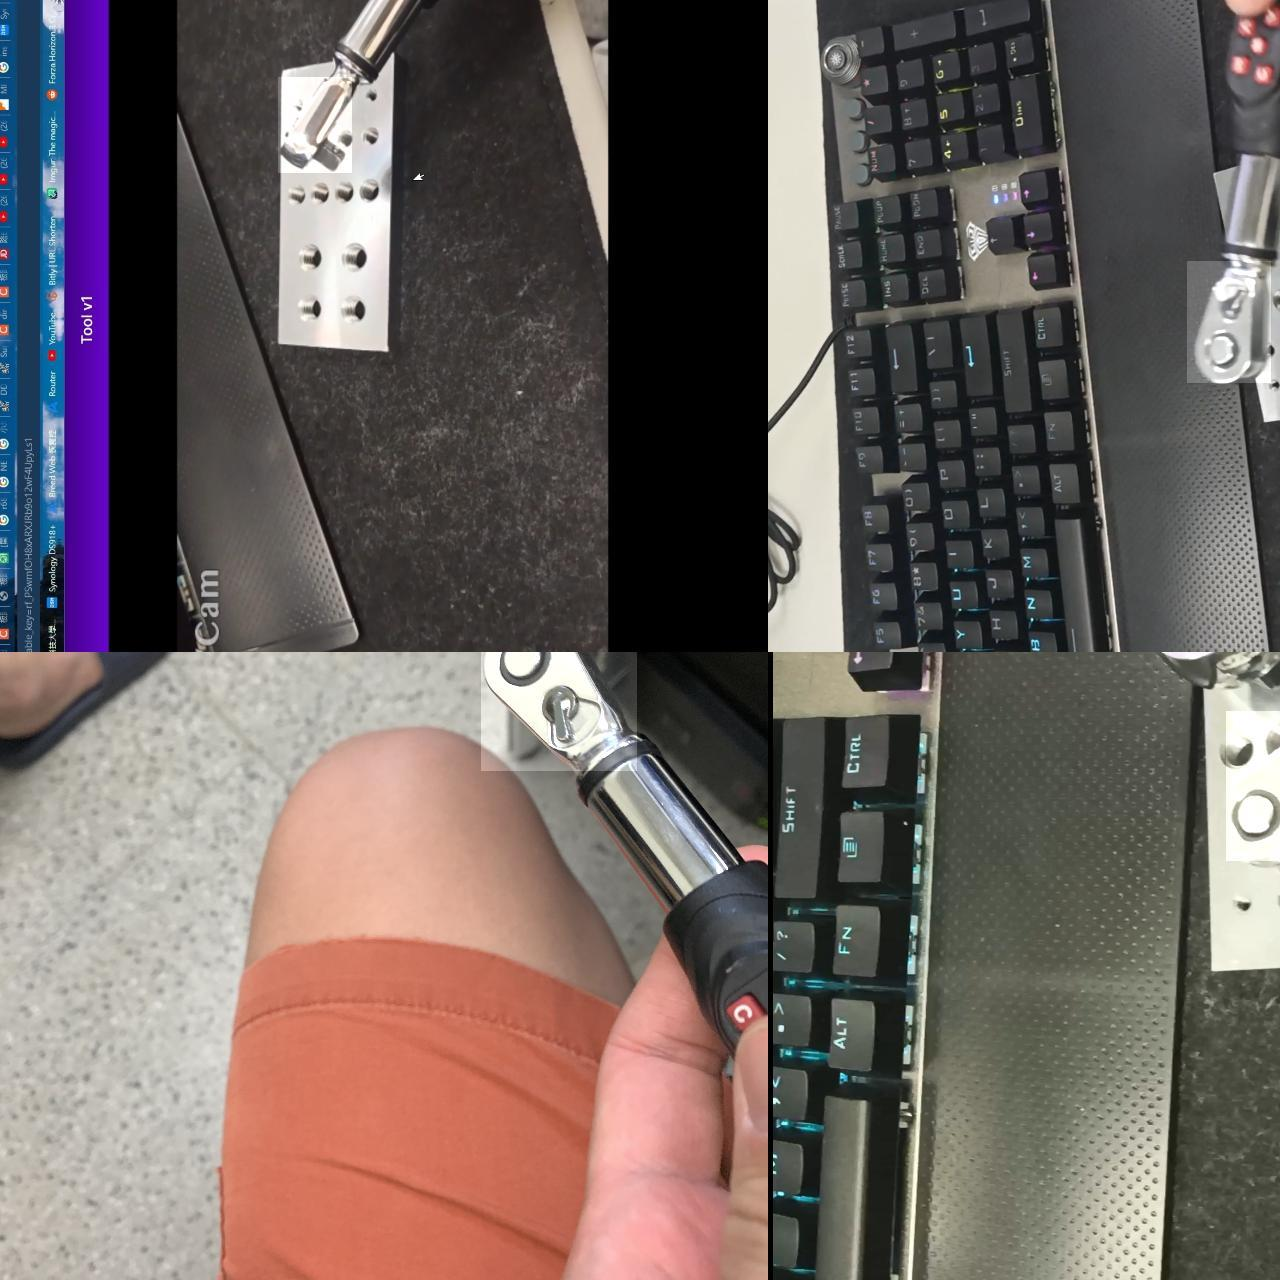Tool: (481, 652, 636, 771), (1186, 261, 1269, 383), (1225, 712, 1280, 862), (277, 77, 350, 173)
